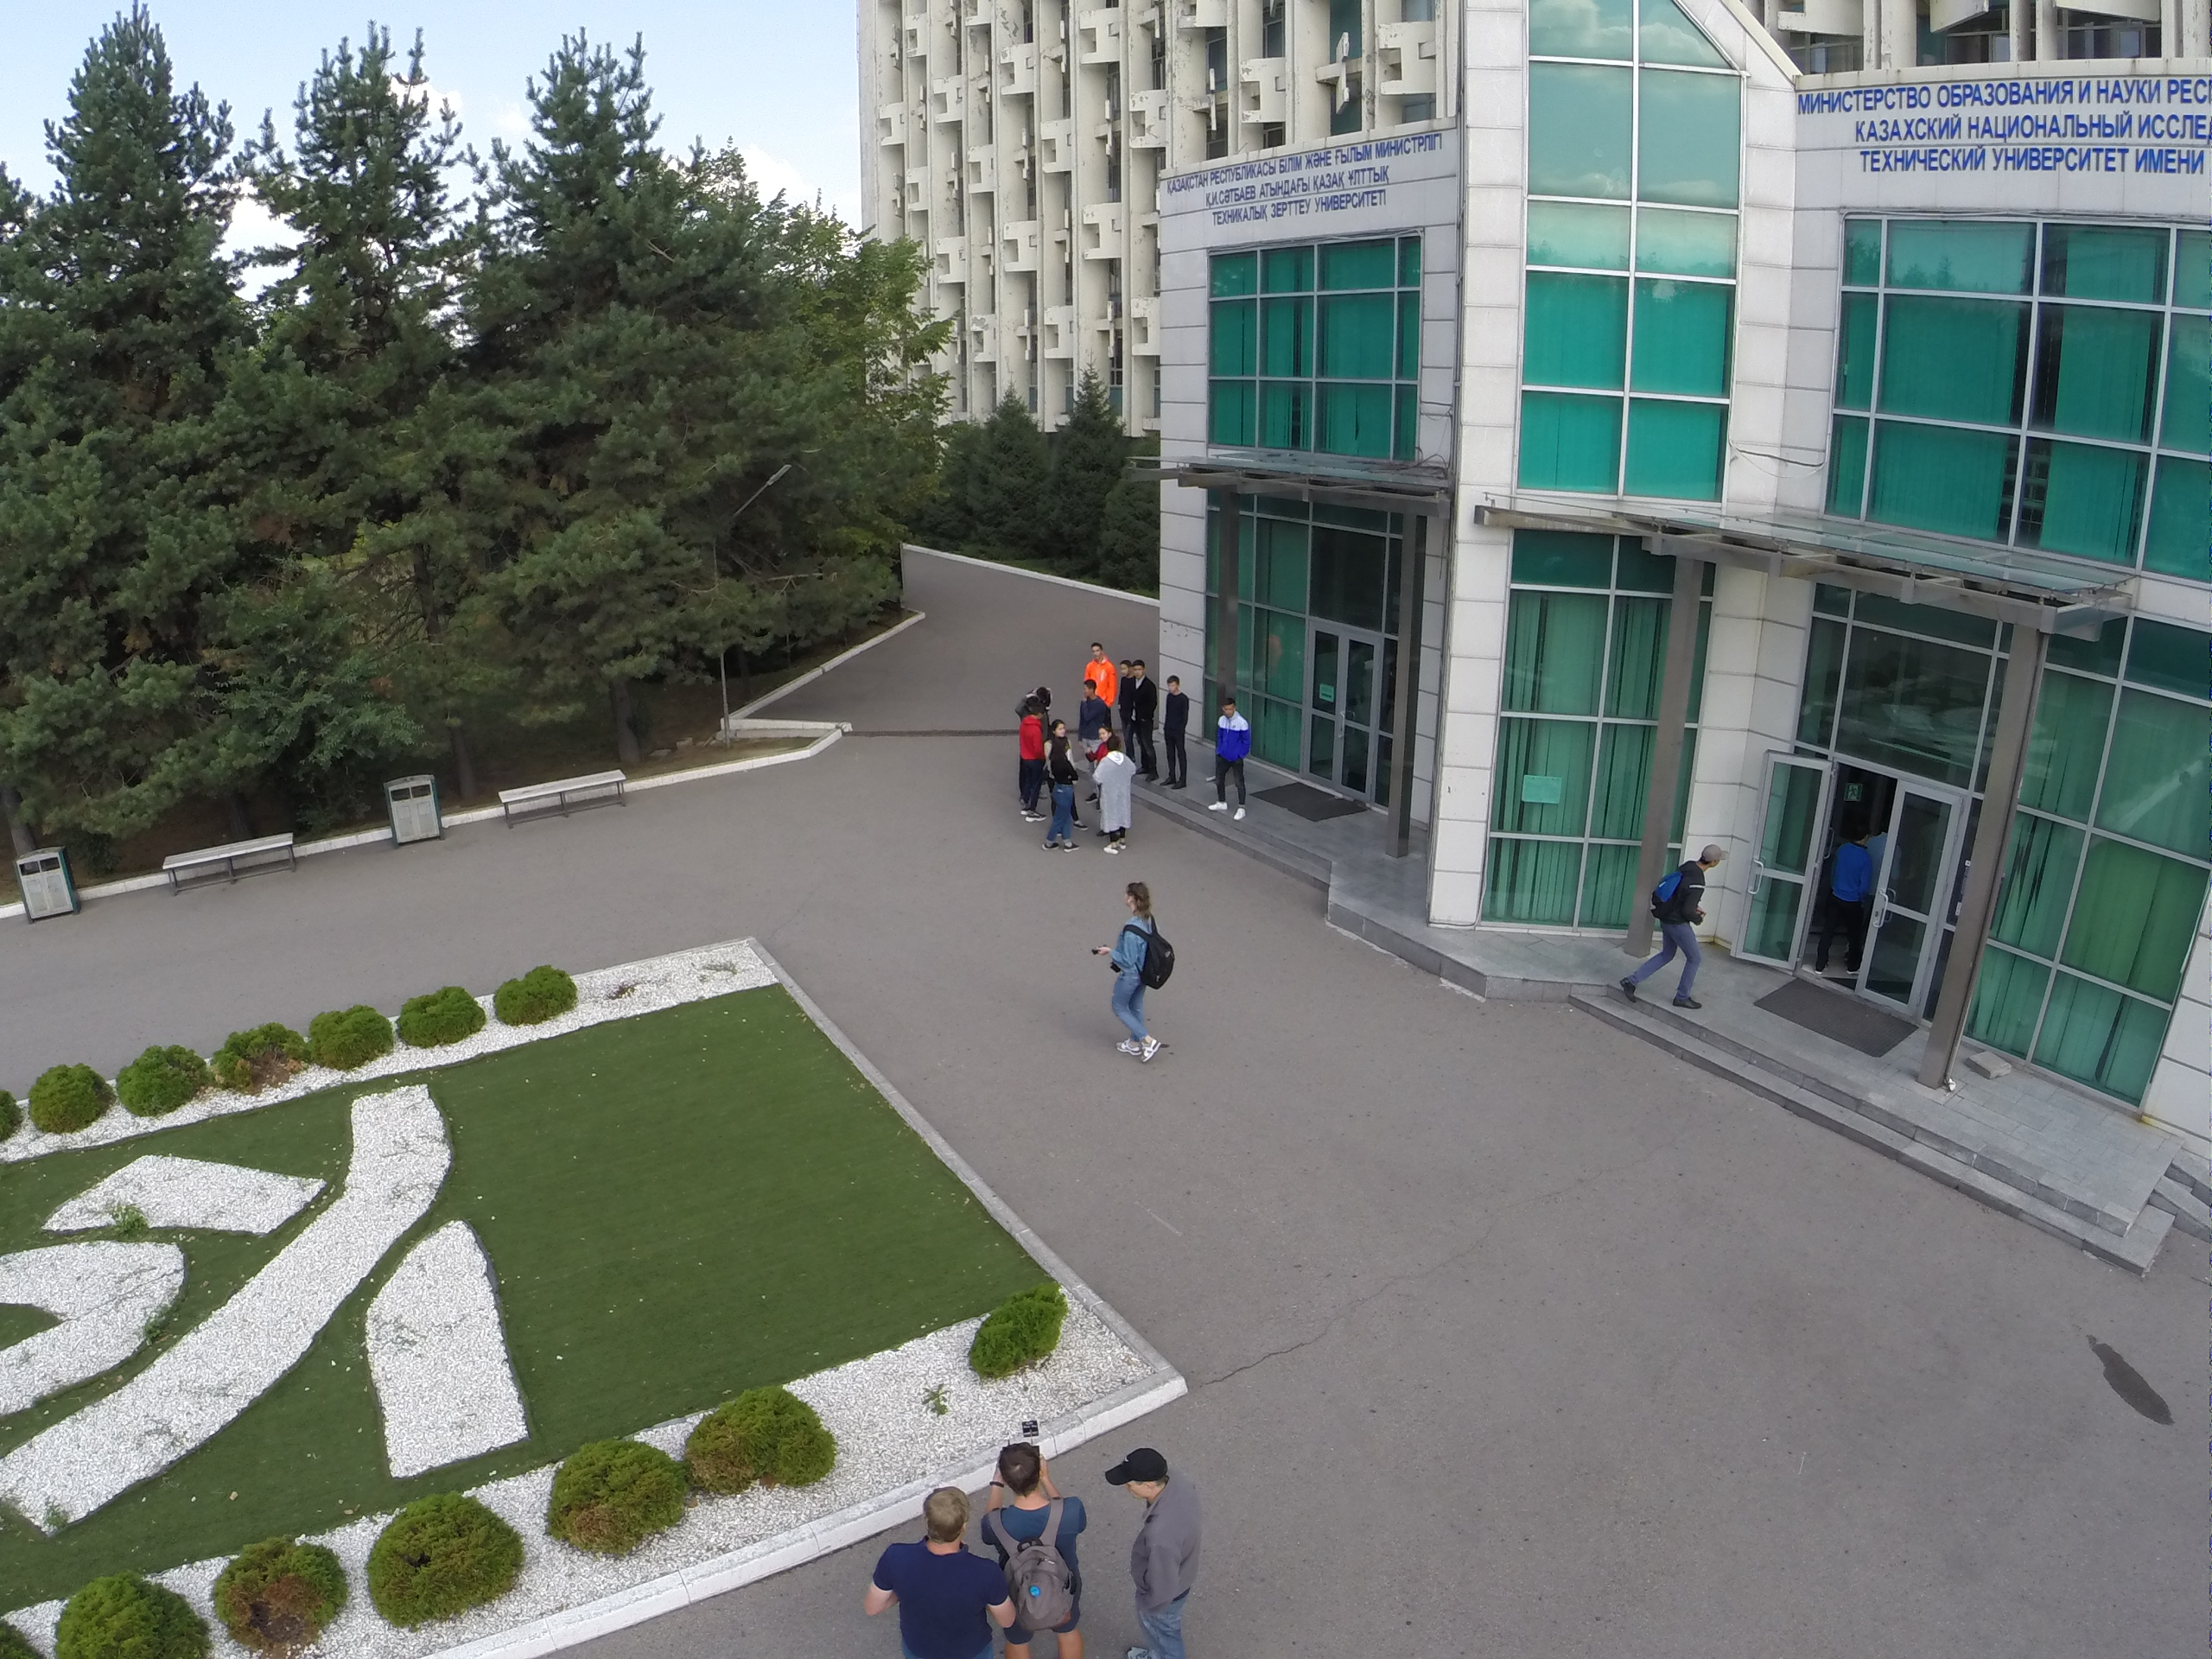person: (1620, 837, 1729, 1013), (1087, 879, 1176, 1063), (1811, 823, 1872, 982), (1205, 700, 1254, 821), (1095, 737, 1133, 857), (1044, 739, 1081, 853), (1157, 675, 1186, 797), (1135, 664, 1160, 782), (1015, 711, 1041, 826), (1073, 679, 1108, 730), (1084, 641, 1112, 690), (1118, 660, 1133, 721)
